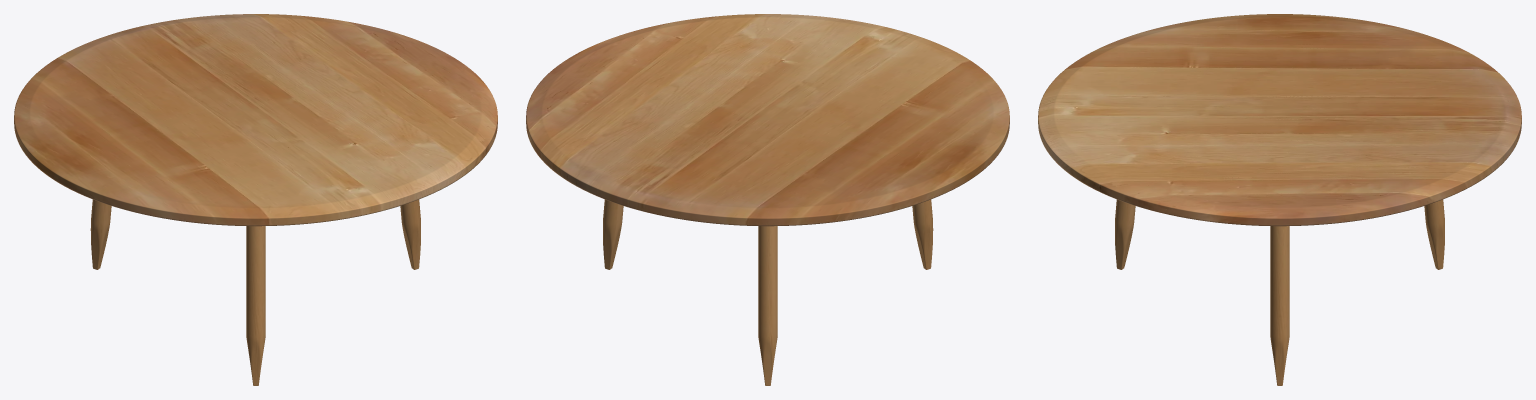
The model's file is abo-B07TLDNPXW.glb.
The picture shows the model from 3 angles, left to right: view 1: azimuth 30°, elevation 25°; view 2: azimuth 150°, elevation 25°; view 3: azimuth 270°, elevation 25°; orthographic projection.
Size of the model in its own units: 0.9 by 0.4 by 0.9.
1 material, 1 textured.
